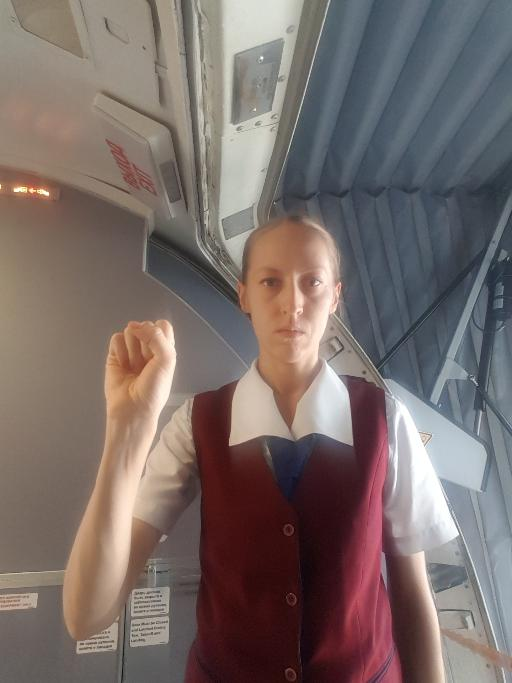fist: (102, 316, 177, 419)
